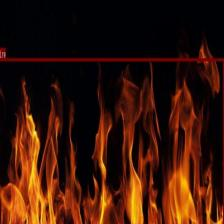fire: (0, 57, 224, 224)
